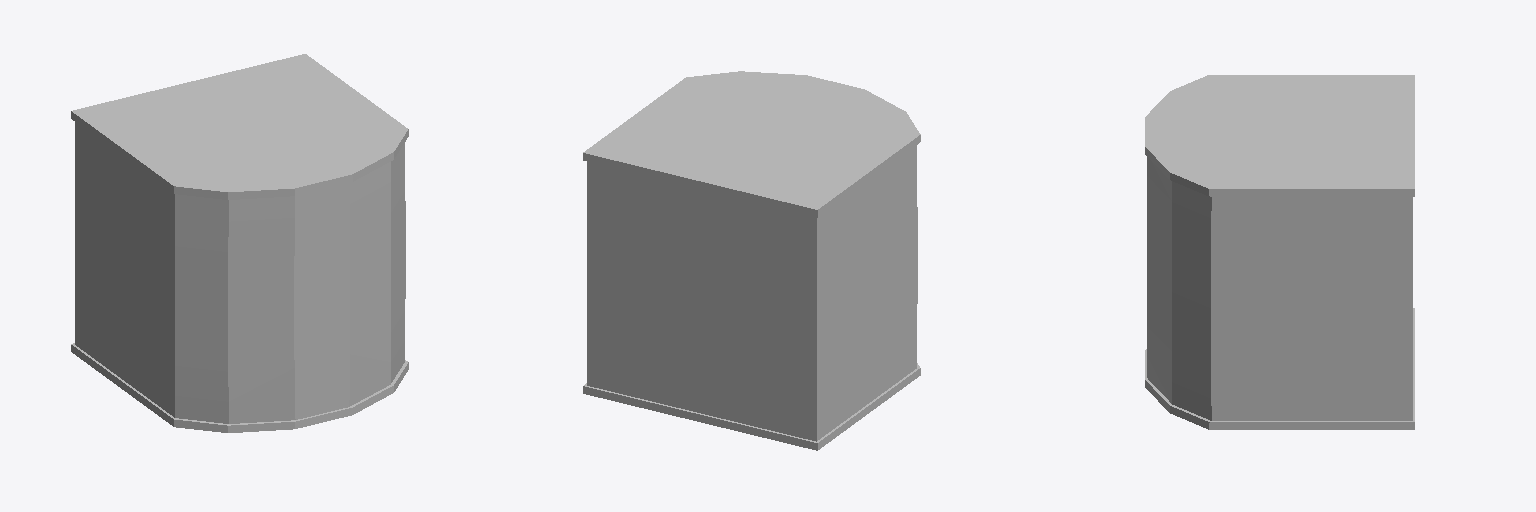
File: RFantena.obj
3 views of the same model, side by side, from view 1: azimuth 30°, elevation 25°; view 2: azimuth 150°, elevation 25°; view 3: azimuth 270°, elevation 25° (orthographic).
Parts seen in each view (by area): view 1: Cube; view 2: Cube; view 3: Cube.
Boxes of the visible parts, box(x1,y1,x2,y2) form: Cube: box(71, 54, 408, 432); Cube: box(583, 71, 920, 450); Cube: box(1145, 75, 1414, 429).
Size of the model in its own units: 1.02 by 1.03 by 1.02.